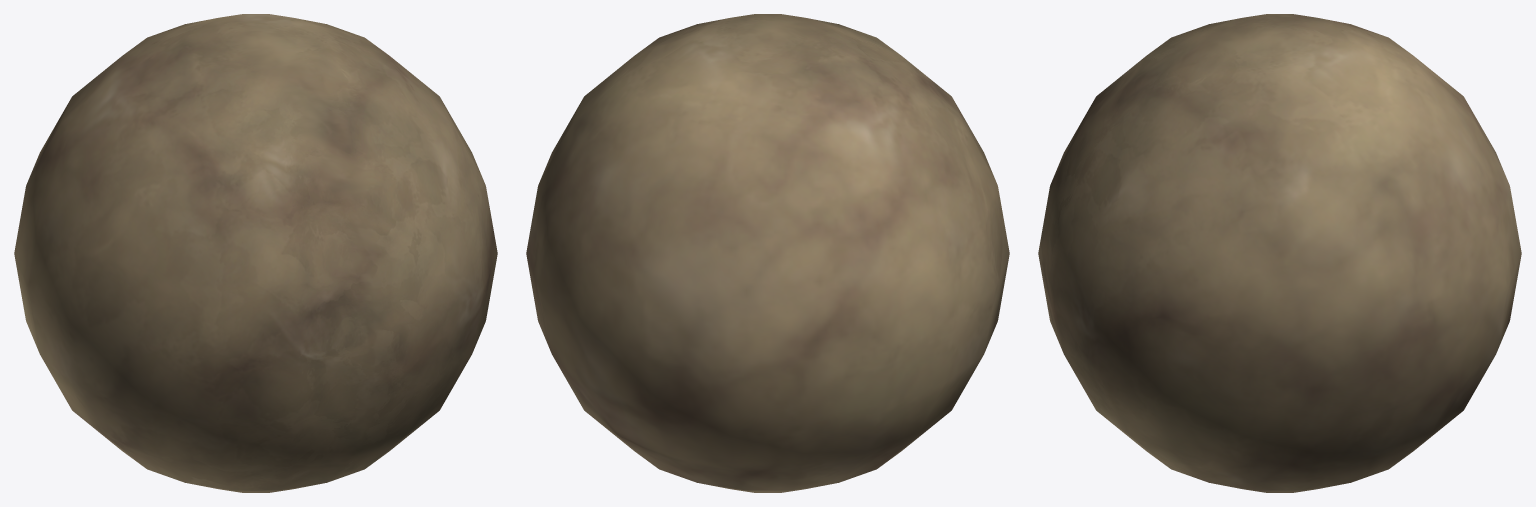
The model's file is Planet_DesertLand.fbx.
The picture shows the model from 3 angles, left to right: view 1: azimuth 30°, elevation 25°; view 2: azimuth 150°, elevation 25°; view 3: azimuth 270°, elevation 25°; orthographic projection.
Parts seen in each view (by area): view 1: Planet_DesertLand; view 2: Planet_DesertLand; view 3: Planet_DesertLand.
Boxes of the visible parts, box(x1,y1,x2,y2) form: Planet_DesertLand: box(14, 14, 497, 492); Planet_DesertLand: box(526, 14, 1009, 492); Planet_DesertLand: box(1038, 14, 1521, 492).
Size of the model in its own units: 217 by 220 by 220.
